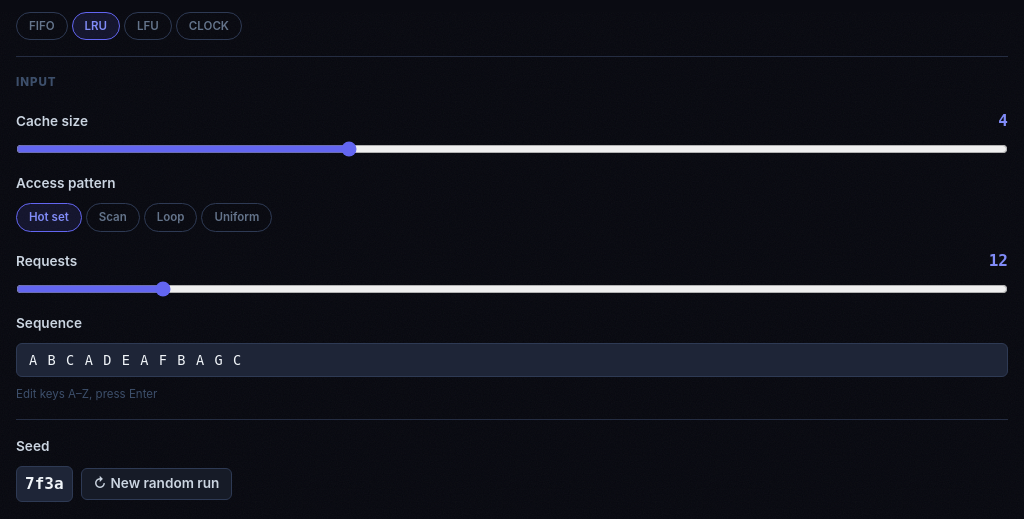
ConfigPanel › an unusable sequence shows an error and changes nothing
This screenshot has width=1024, height=519.
Replace the text in the field labelled "Sequence" with "123" at (512, 360), box [16,343,1008,377]
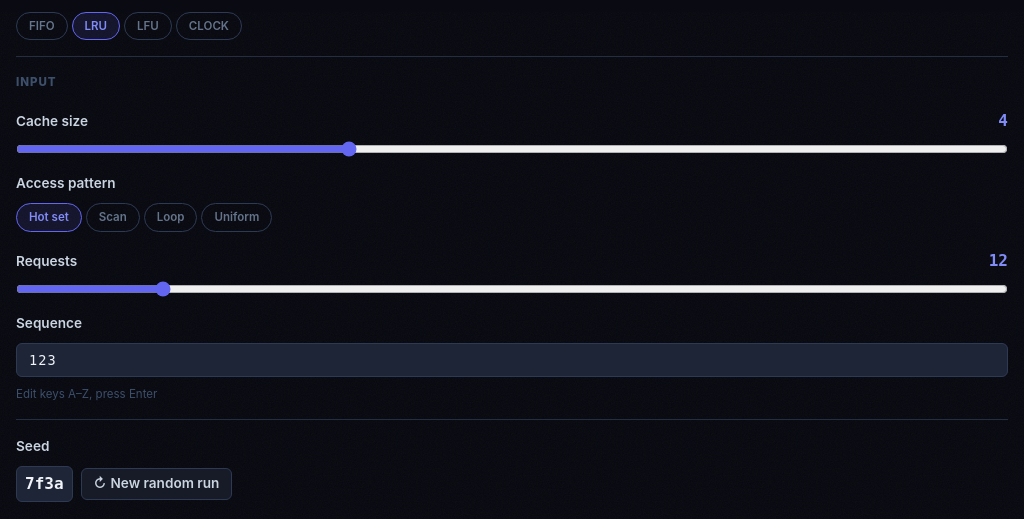
Press Enter in the field labelled "Sequence", box [16,343,1008,377]
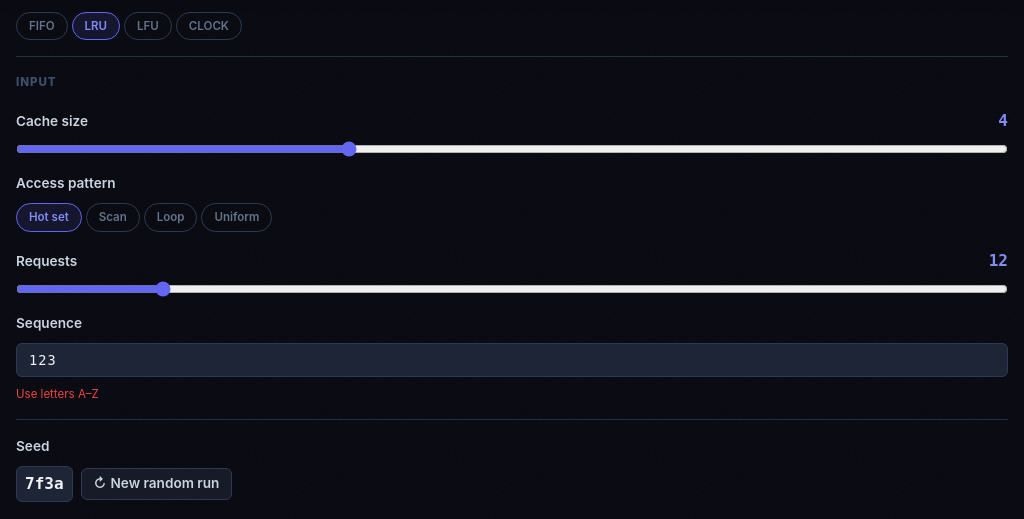
Check: the text "Use letters A–Z" is shown, box [16,387,99,401]
